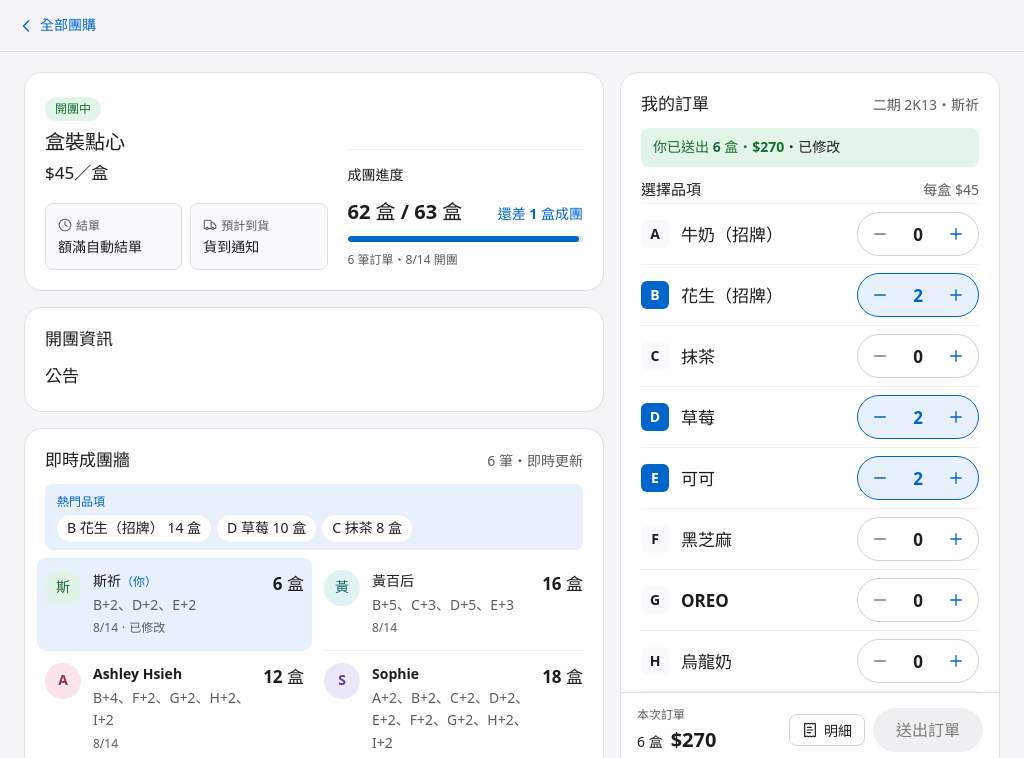
Test: customer campaign app › uses the published quantity unit in progress, totals and capacity warnings
Expected: the text "62 盒 / 63 盒" is shown, [348, 196, 462, 228]
Expected: the text "還差 1 盒成團" is shown, [498, 204, 583, 226]
Click the button named "增加 C 抹茶": click(956, 356) [934, 335, 978, 377]
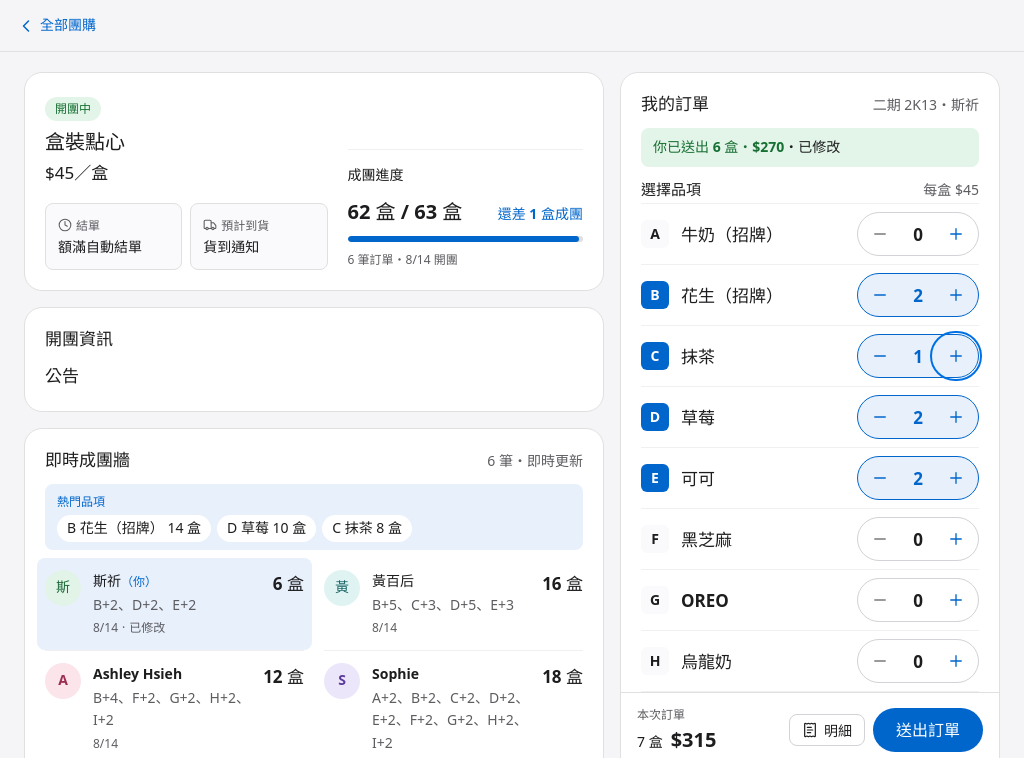
Click the button named "增加 C 抹茶": click(956, 356) [934, 335, 978, 377]
(page scrolled)
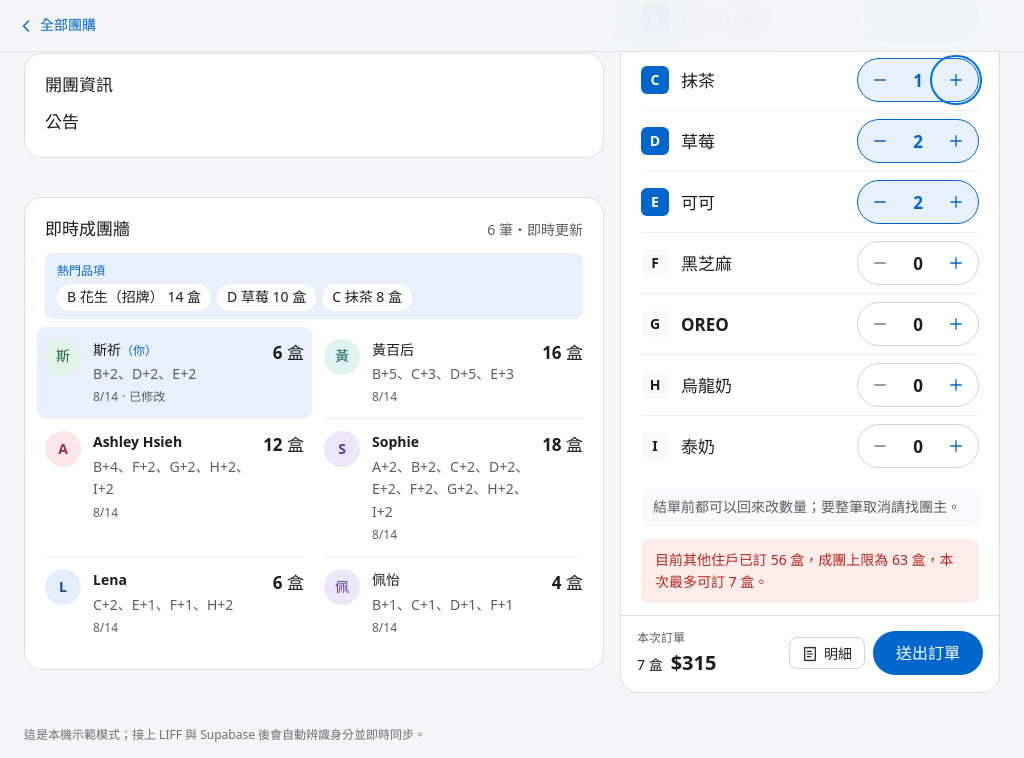
Expected: the text "目前其他住戶已訂 56 盒，成團上限為 63 盒，本次最多可訂 7 盒。" is shown, [655, 549, 965, 594]
